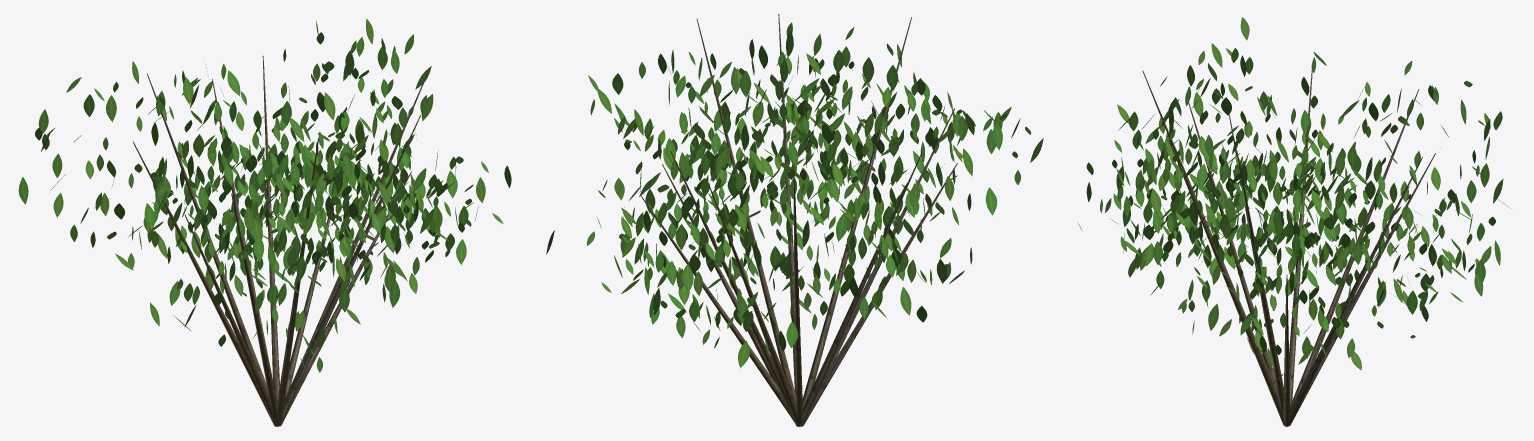
Rendered from bush.gltf.
3 views of the same model, side by side, from view 1: azimuth 30°, elevation 25°; view 2: azimuth 150°, elevation 25°; view 3: azimuth 270°, elevation 25° (orthographic). The views are drawn at different scales.
Bounding box in the file's own units: 1.19 × 1 × 1.16.
Materials: 2 (2 with a texture image).
